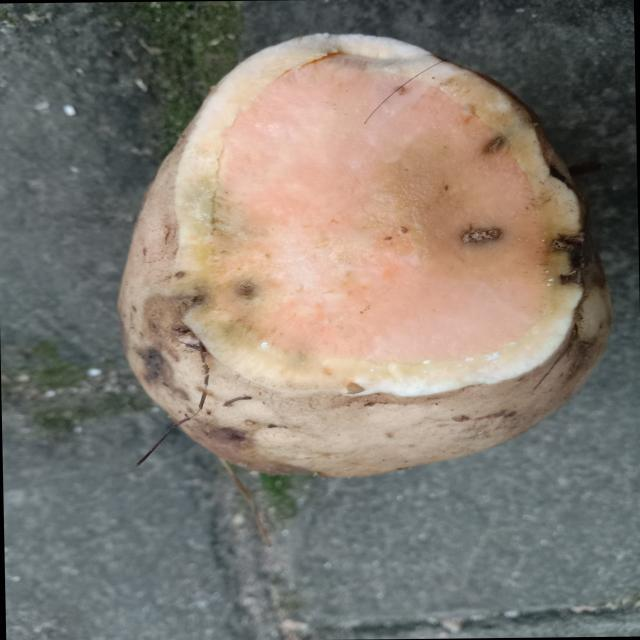Sick Sweet Potato_Tuber Rot: (175, 35, 582, 396)
